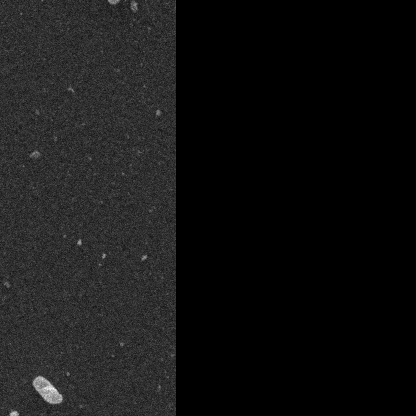cell2surface: (110, 0, 150, 2)
regular: (27, 375, 66, 409), (93, 0, 123, 6)
